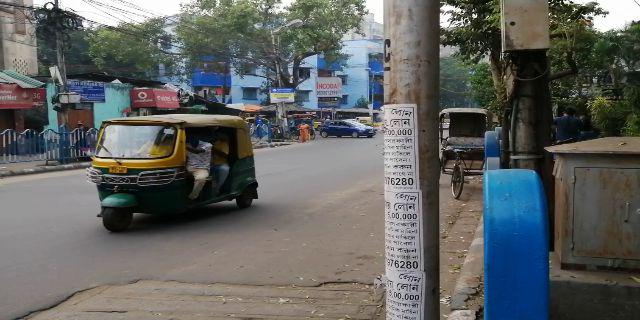Autorickshaw: (90, 117, 258, 226)
